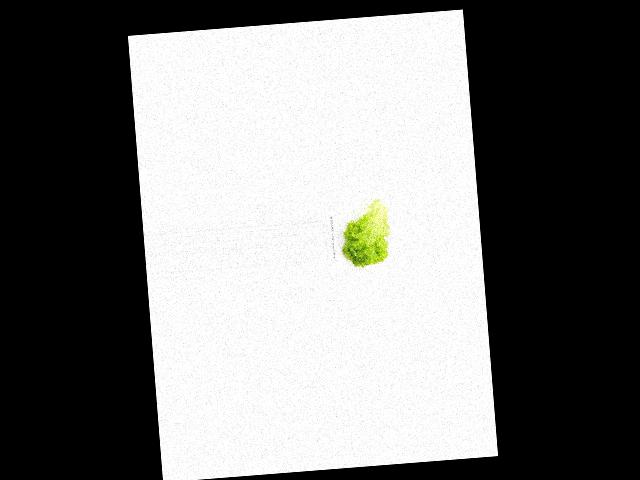lettuce: (338, 198, 395, 271)
